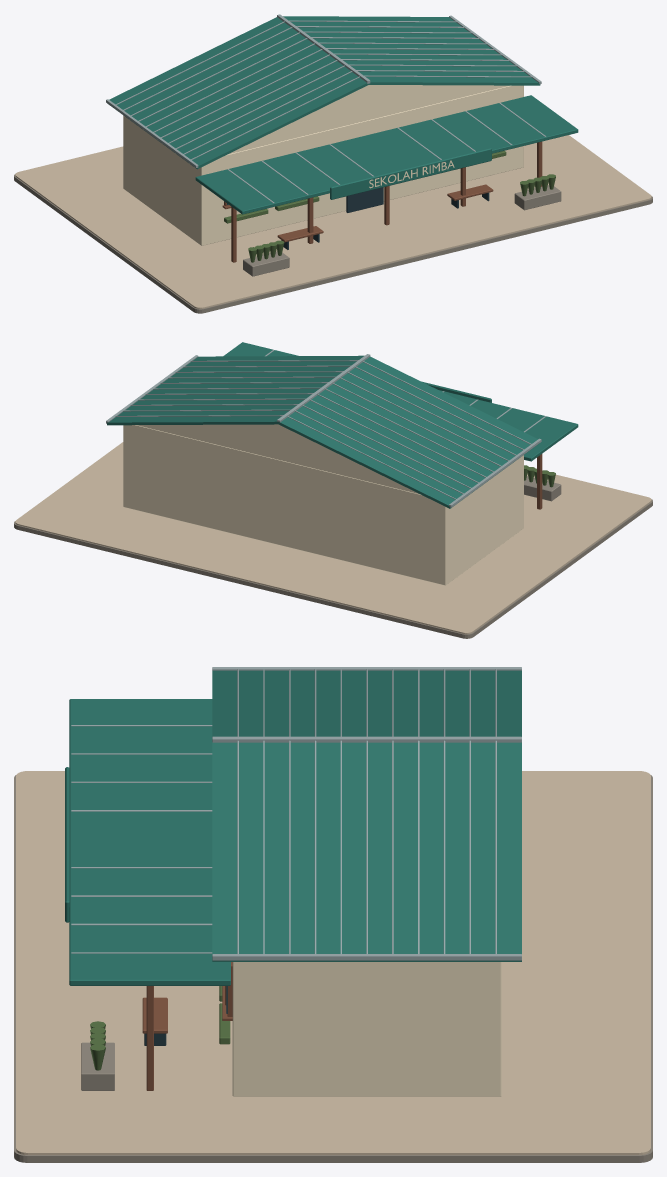
3 renders of one model, top to bottom at view 1: azimuth 30°, elevation 25°; view 2: azimuth 150°, elevation 25°; view 3: azimuth 270°, elevation 25°, orthographic. The views are drawn at different scales.
Parts seen in each view (by area): view 1: Classroom Pavilion, School Grounds, Covered Veranda, Garden Planters, Entrance Sign, Learning Tables; view 2: Classroom Pavilion, School Grounds, Covered Veranda, Garden Planters; view 3: Classroom Pavilion, School Grounds, Covered Veranda, Garden Planters, Learning Tables, Entrance Sign.
Boxes of the visible parts, x1,y1,x2,y2 form: Classroom Pavilion: (106, 14, 541, 245); School Grounds: (14, 135, 652, 313); Covered Veranda: (195, 95, 578, 262); Garden Planters: (243, 174, 561, 276); Entrance Sign: (330, 148, 491, 199); Learning Tables: (277, 184, 493, 249); Classroom Pavilion: (106, 354, 541, 585); School Grounds: (14, 442, 652, 638); Covered Veranda: (223, 342, 578, 509); Garden Planters: (524, 465, 561, 501); Classroom Pavilion: (212, 667, 521, 1096); School Grounds: (14, 771, 652, 1162); Covered Veranda: (69, 699, 230, 1090); Garden Planters: (81, 1021, 114, 1090); Learning Tables: (142, 997, 167, 1045); Entrance Sign: (65, 767, 69, 922).
Bounding box in the file's own units: 27 × 7.65 × 19.
